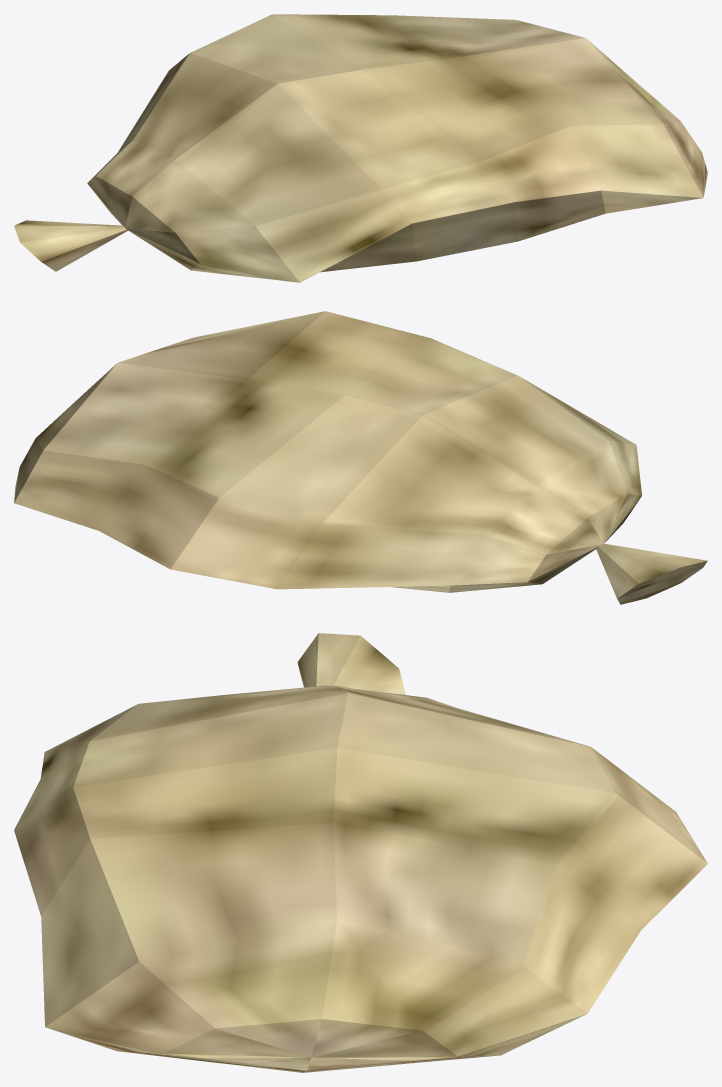
Rendered from sack2.fbx.
3 renders of one model, top to bottom at view 1: azimuth 30°, elevation 25°; view 2: azimuth 150°, elevation 25°; view 3: azimuth 270°, elevation 25°, orthographic. The views are drawn at different scales.
Visible parts, largest first — view 1: Sphere; view 2: Sphere; view 3: Sphere.
Part boxes in pixels (x1=…): Sphere: x1=14, y1=14, x2=707, y2=282; Sphere: x1=14, y1=311, x2=707, y2=604; Sphere: x1=14, y1=633, x2=707, y2=1072.
Size of the model in its own units: 257 by 50.04 by 188.
